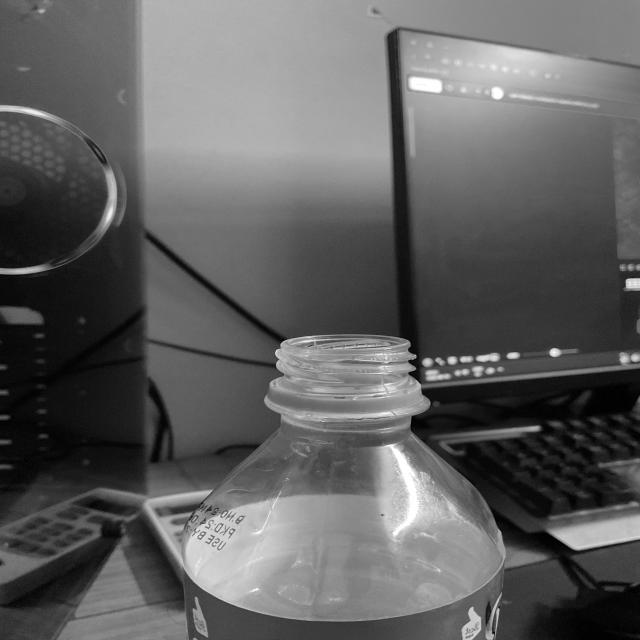open-cap: (268, 334, 422, 412)
